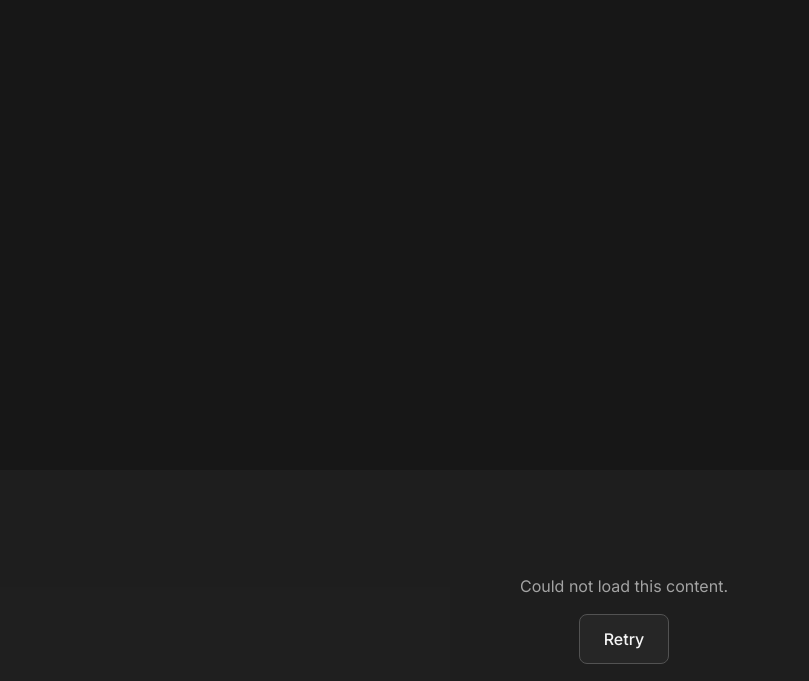
Test: About › keeps the page and shows a local error with retry when the interests fail
The image size is (809, 681).
(page scrolled)
Click the button "Retry" at [624, 639], box top-left (579, 614), bottom-right (669, 664)
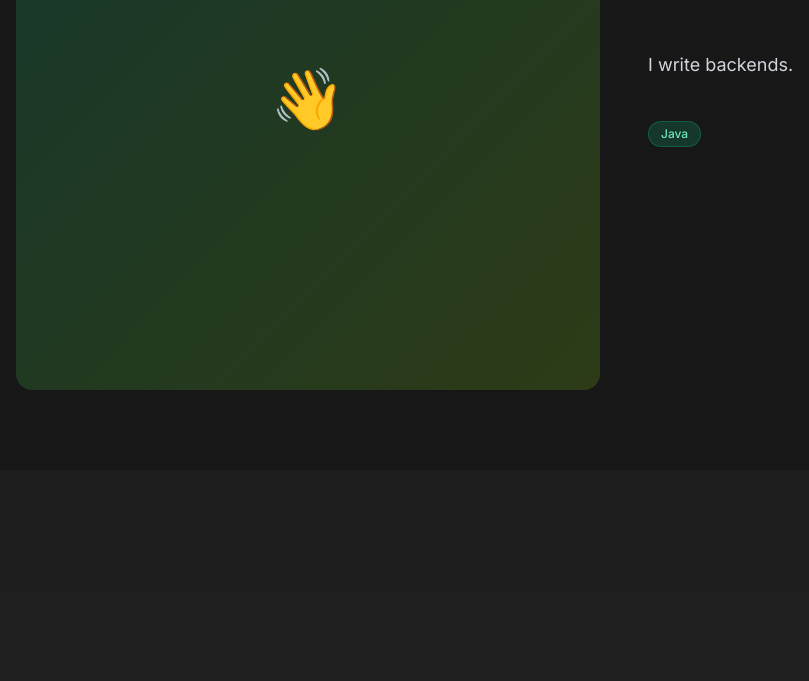
Check: the text "Could not load this content." is gone
